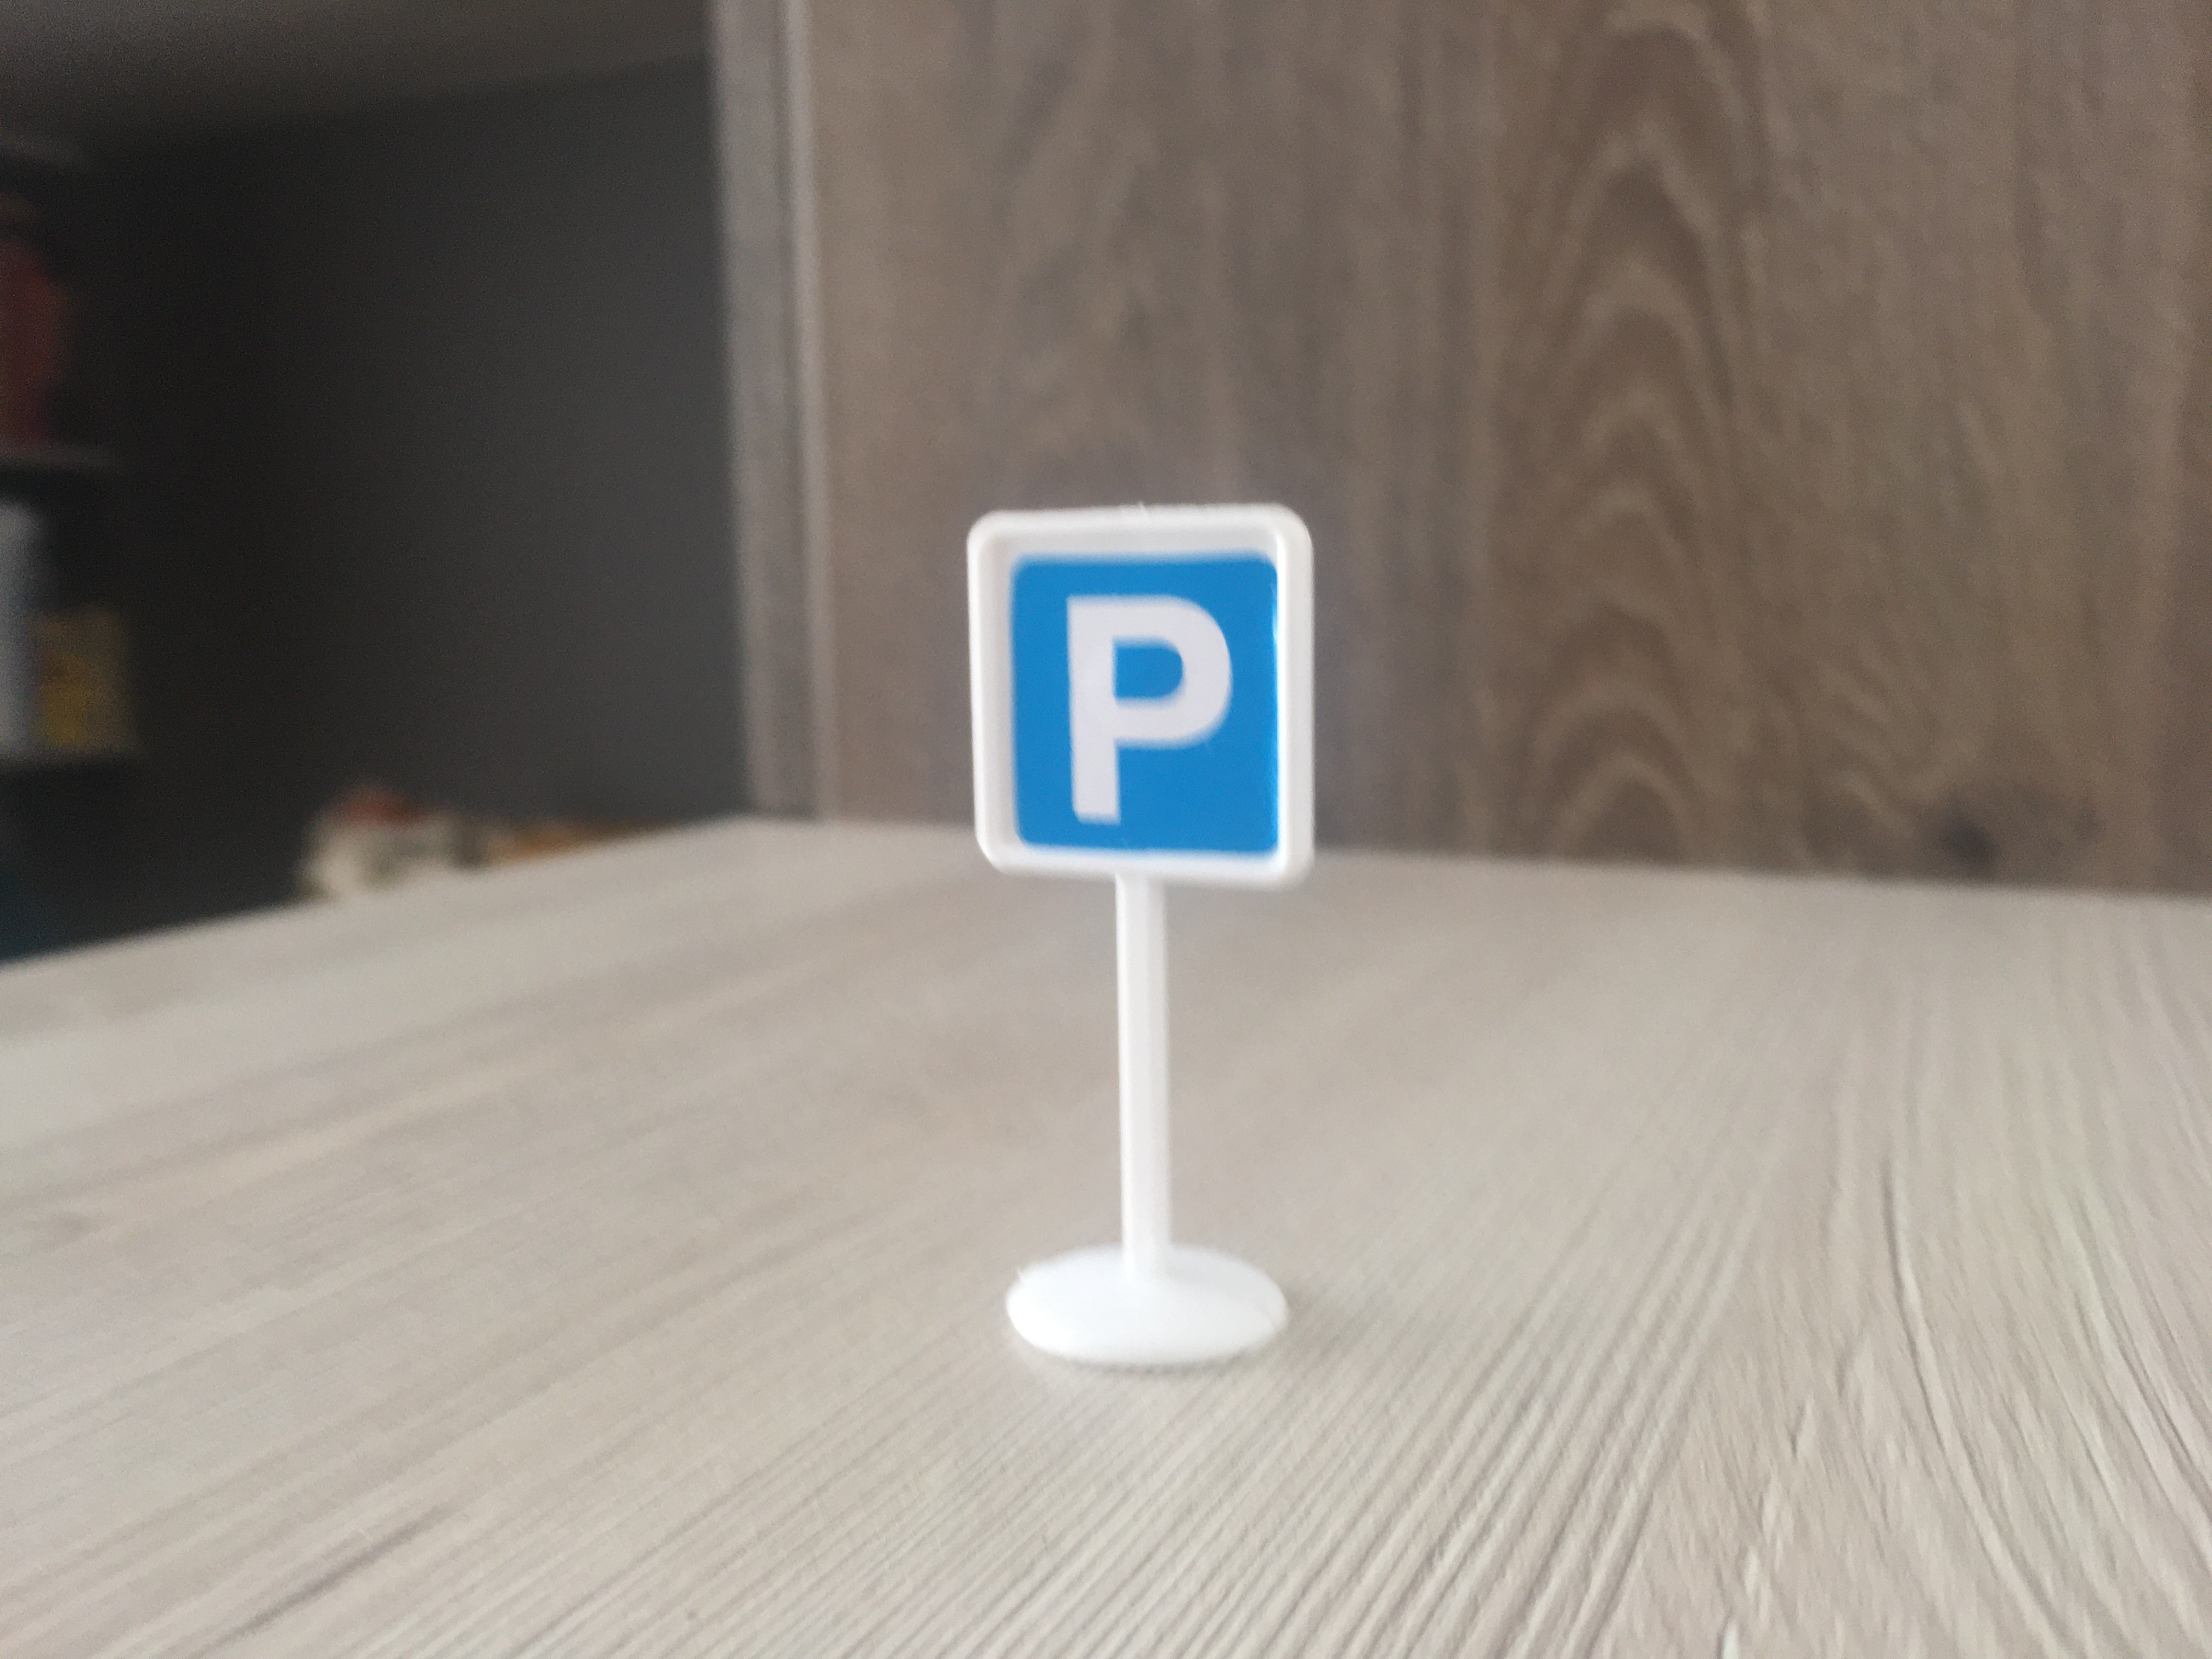parking: (961, 507, 1318, 894)
